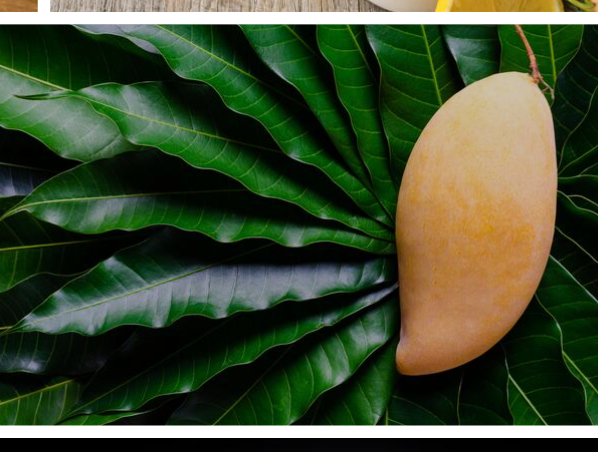mango: (393, 71, 559, 378)
